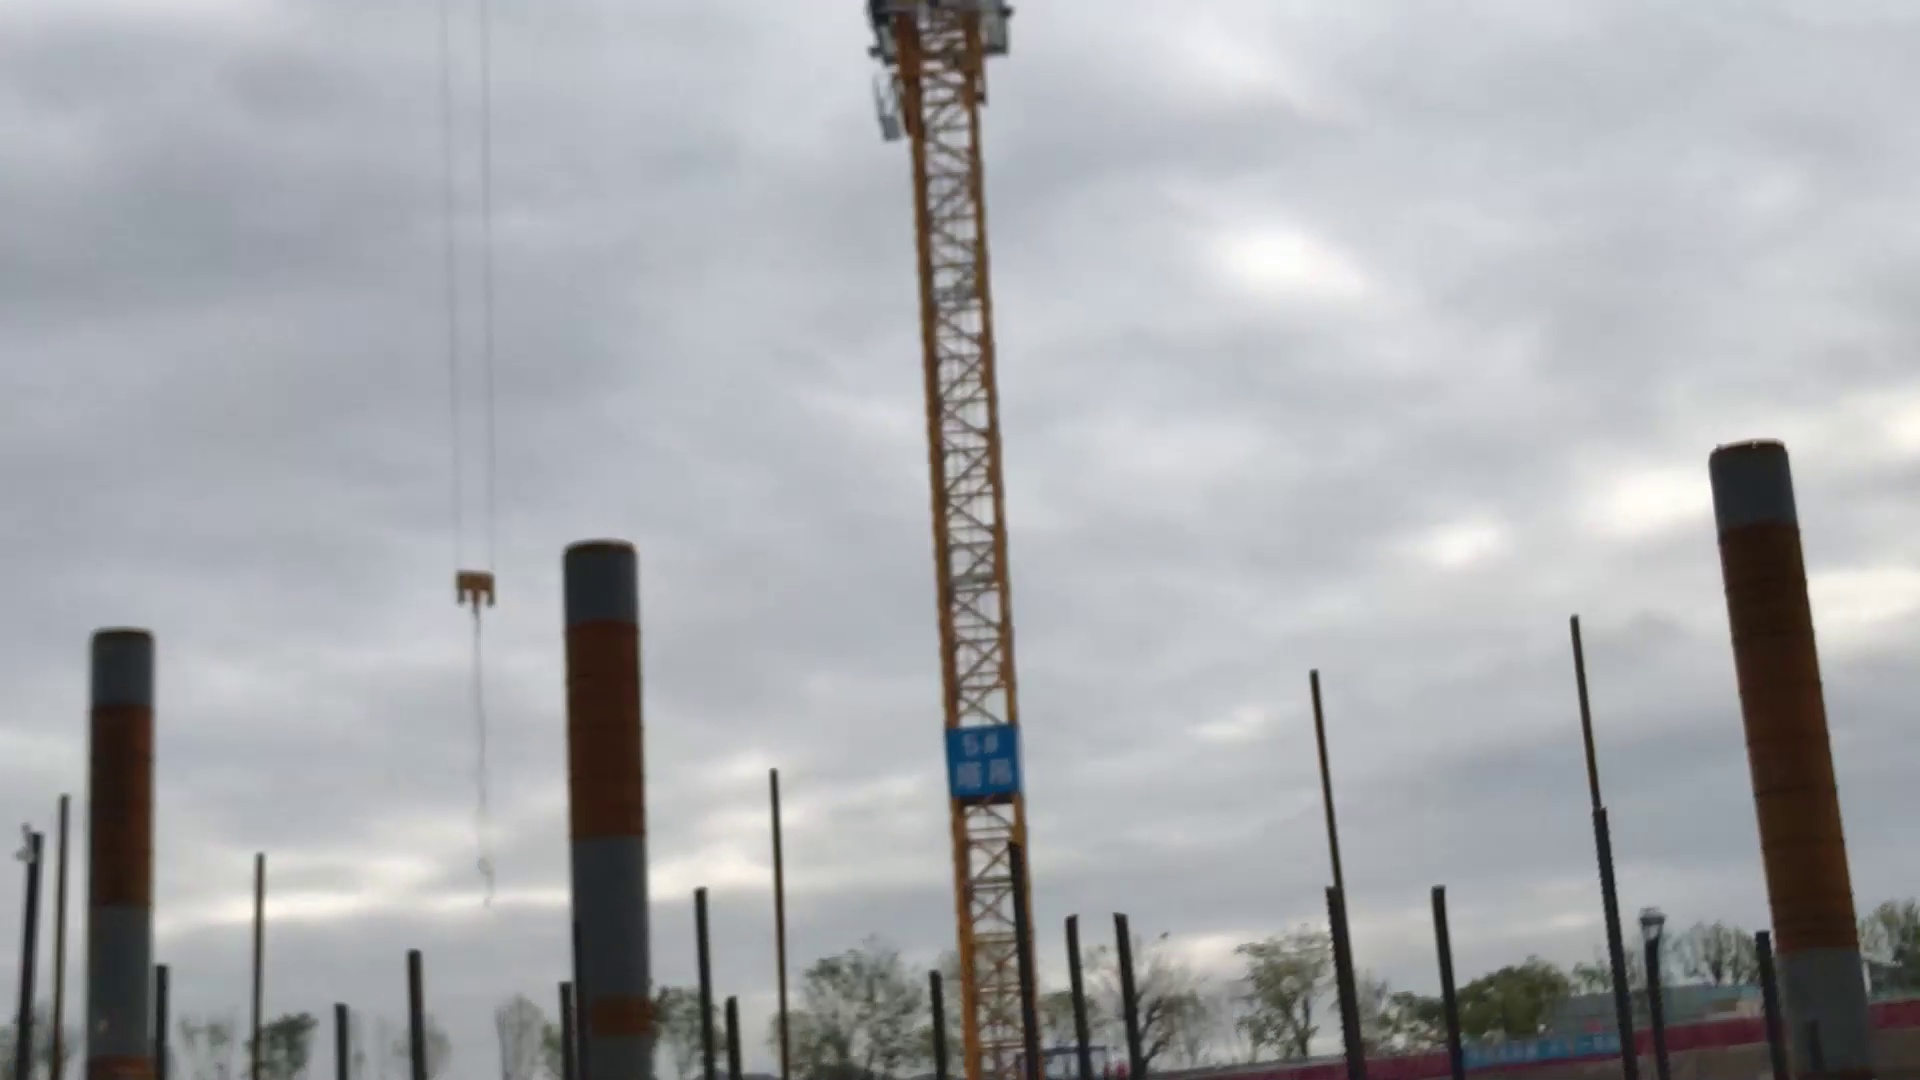hook: (440, 562, 508, 616)
slogan: (935, 713, 1040, 803), (1464, 1040, 1633, 1072)
